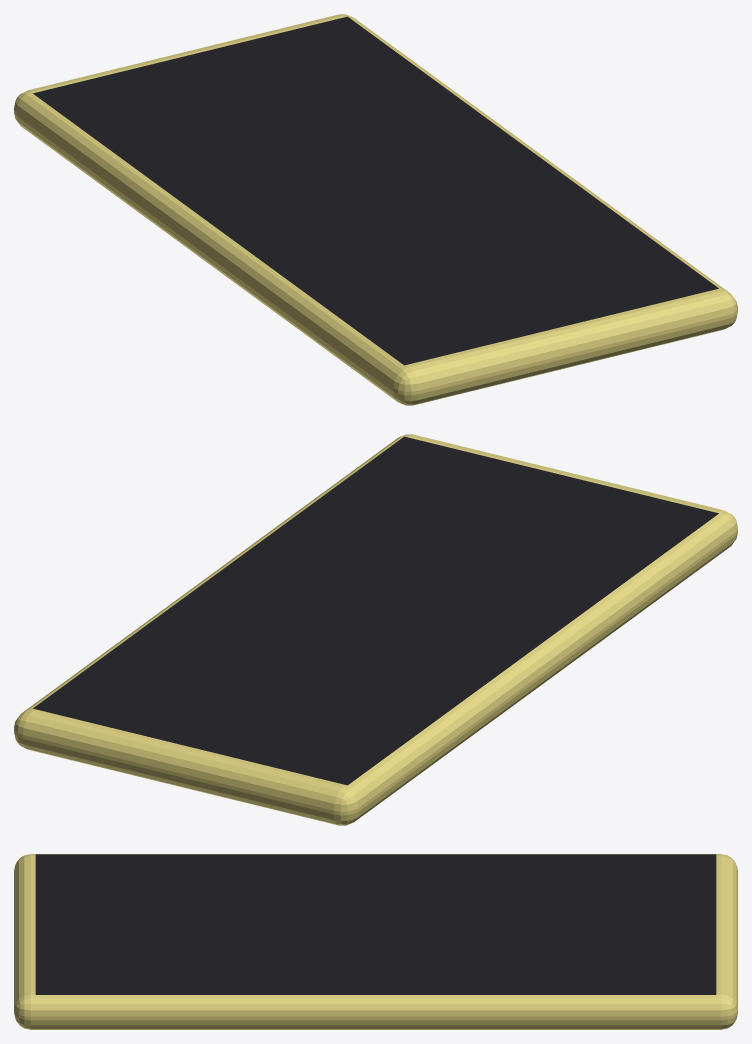
Rendered from tecno-pova-model-421-budget-2023.glb.
3 renders of one model, top to bottom at view 1: azimuth 30°, elevation 25°; view 2: azimuth 150°, elevation 25°; view 3: azimuth 270°, elevation 25°, orthographic. The views are drawn at different scales.
Visible parts, largest first — view 1: Phone_Screen, Phone_Body; view 2: Phone_Screen, Phone_Body; view 3: Phone_Screen, Phone_Body.
Part boxes in pixels (x1=…): Phone_Screen: x1=33, y1=16, x2=718, y2=365; Phone_Body: x1=14, y1=14, x2=737, y2=405; Phone_Screen: x1=33, y1=436, x2=718, y2=785; Phone_Body: x1=14, y1=434, x2=737, y2=825; Phone_Screen: x1=35, y1=854, x2=716, y2=994; Phone_Body: x1=14, y1=854, x2=737, y2=1029.
Bounding box in the file's own units: 0.0717 × 0.0075 × 0.1434.
